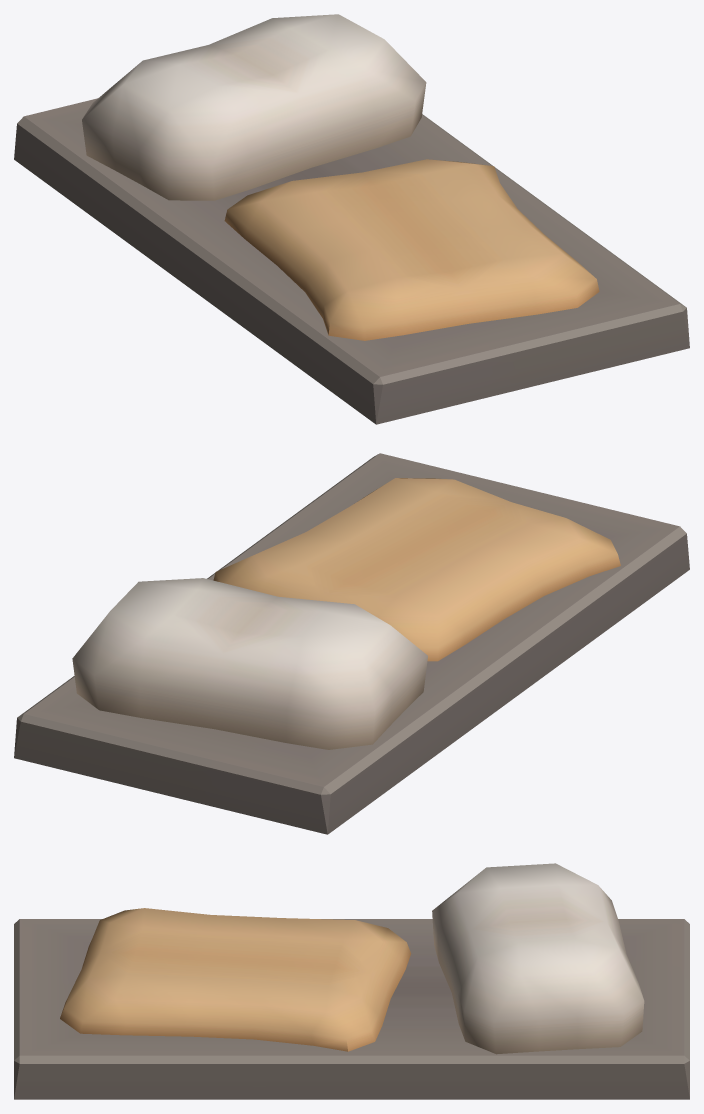
The model's file is bed_floor.glb.
The picture shows the model from 3 angles, top to bottom: view 1: azimuth 30°, elevation 25°; view 2: azimuth 150°, elevation 25°; view 3: azimuth 270°, elevation 25°; orthographic projection. The views are drawn at different scales.
Parts seen in each view (by area): view 1: bed_floor; view 2: bed_floor; view 3: bed_floor.
Part boxes in pixels (x1,y1,x2,y2): bed_floor: (14,14,689,424); bed_floor: (14,453,689,834); bed_floor: (14,863,689,1099).
Size of the model in its own units: 1.5 by 0.5625 by 3.
Materials: 1 (1 with a texture image).
